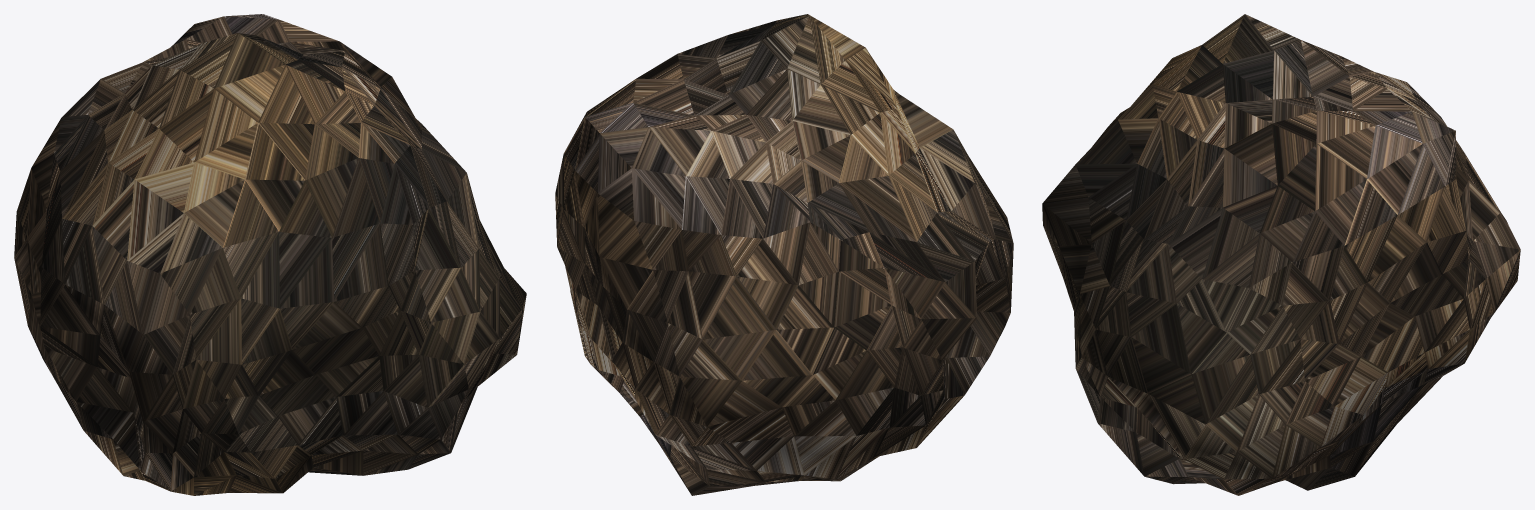
File: asteroid11.obj
3 renders of one model, left to right at view 1: azimuth 30°, elevation 25°; view 2: azimuth 150°, elevation 25°; view 3: azimuth 270°, elevation 25°, orthographic. The views are drawn at different scales.
Parts seen in each view (by area): view 1: asteroid; view 2: asteroid; view 3: asteroid.
Boxes of the visible parts, box(x1,y1,x2,y2) form: asteroid: box(14, 14, 526, 495); asteroid: box(555, 14, 1013, 495); asteroid: box(1042, 14, 1520, 495).
Size of the model in its own units: 50.13 by 50.24 by 49.29.
Materials: 1 (1 with a texture image).
